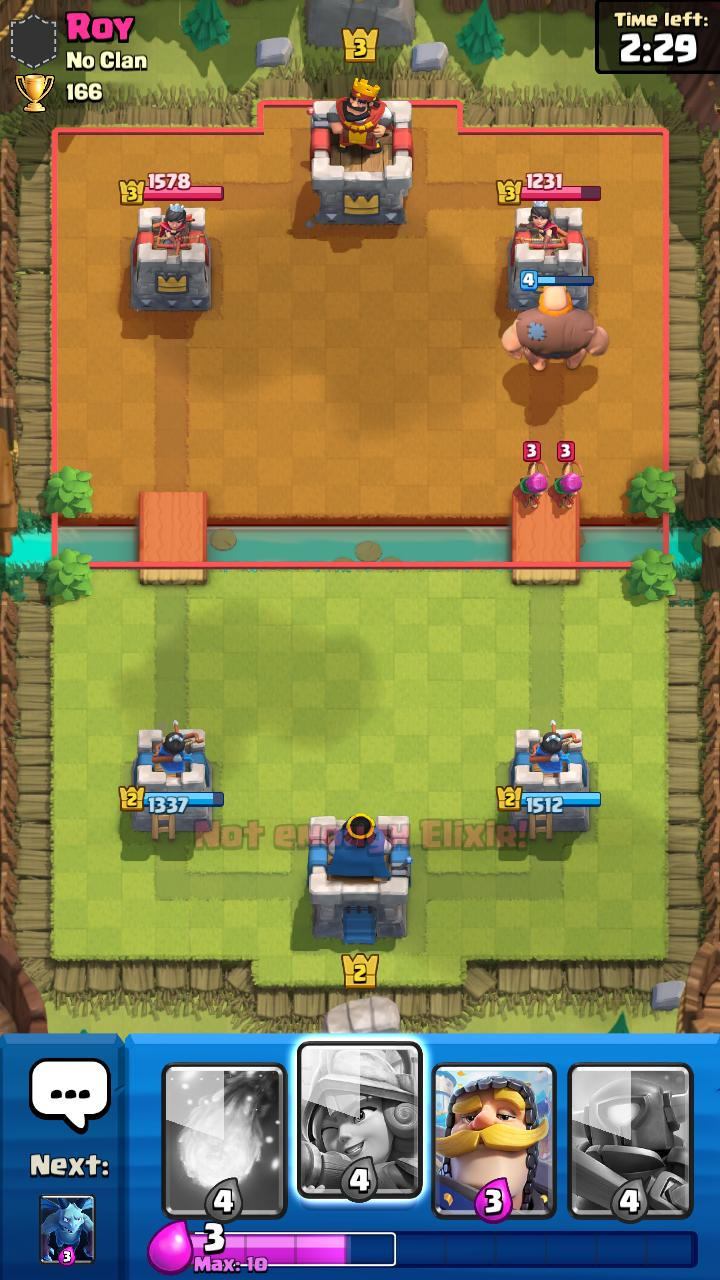ally: (502, 270, 610, 371)
enemy: (513, 441, 550, 509), (548, 441, 584, 508)
